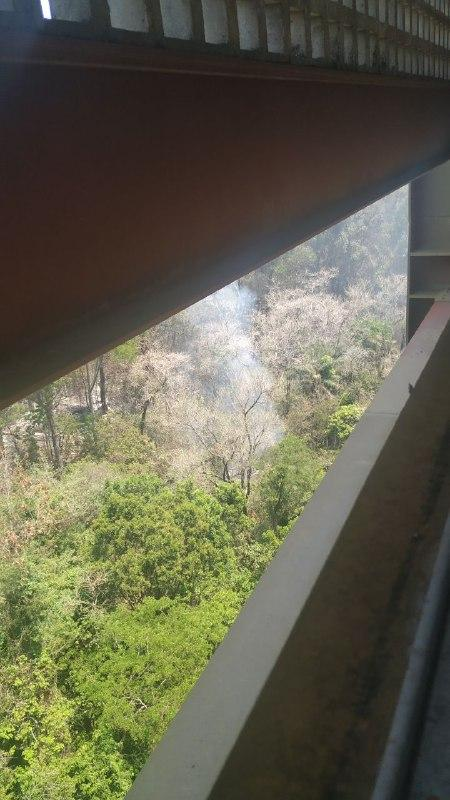smoke: (182, 320, 262, 428)
